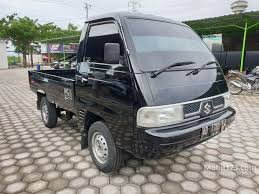plate: (201, 118, 227, 138)
